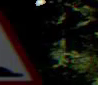Speed Breaker ahead: (0, 9, 38, 84)
